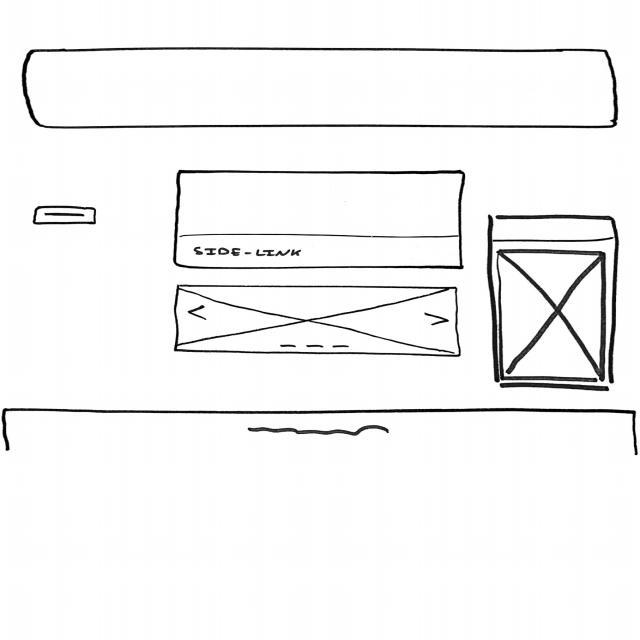container: (23, 48, 619, 129), (172, 170, 466, 271), (485, 214, 621, 392)
icon-button: (32, 206, 98, 226)
image: (175, 284, 463, 360), (498, 249, 608, 382)
label: (190, 246, 304, 259)
text: (248, 423, 393, 439)
